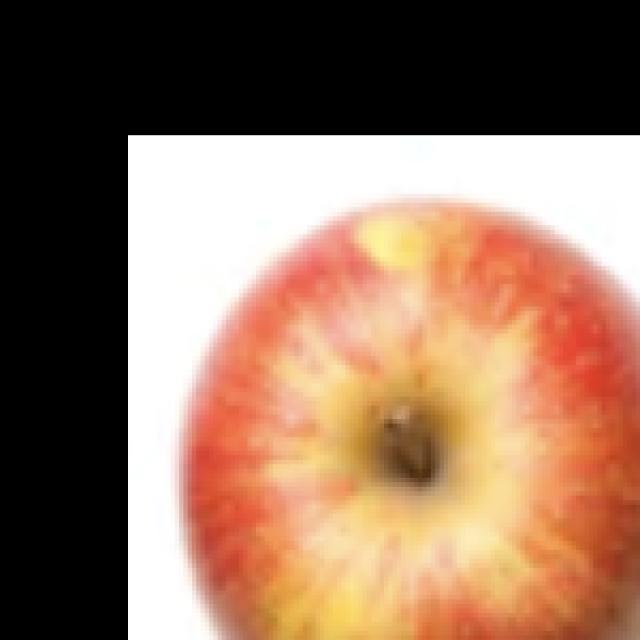Fresh Apple: (203, 226, 640, 639)
